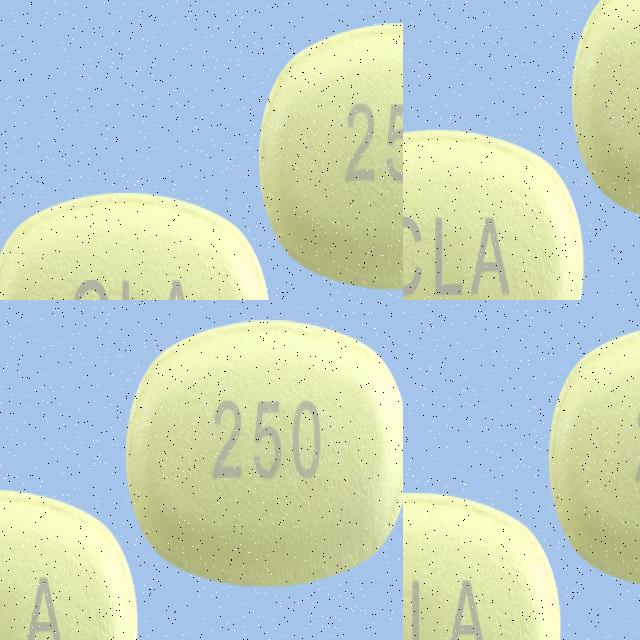Ciflonew: (131, 301, 388, 640), (0, 300, 105, 640)
Clana: (403, 119, 598, 300), (561, 0, 640, 206)
Clar - 500mg: (545, 315, 640, 592), (403, 480, 566, 640)
Clath: (257, 0, 403, 246), (0, 211, 278, 300)
